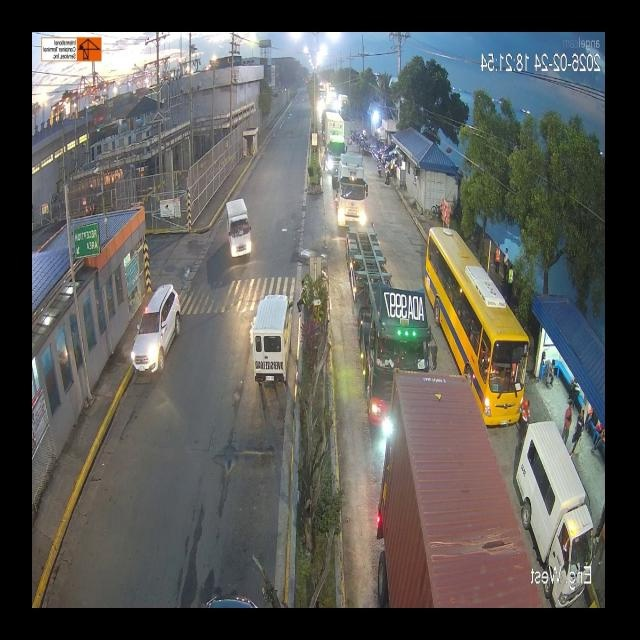bus: (110, 221, 419, 428)
car: (518, 433, 594, 567), (128, 280, 188, 396), (249, 284, 298, 400)
truck: (96, 363, 544, 606), (202, 231, 338, 443), (221, 182, 259, 266), (294, 108, 345, 169), (330, 152, 367, 236)
